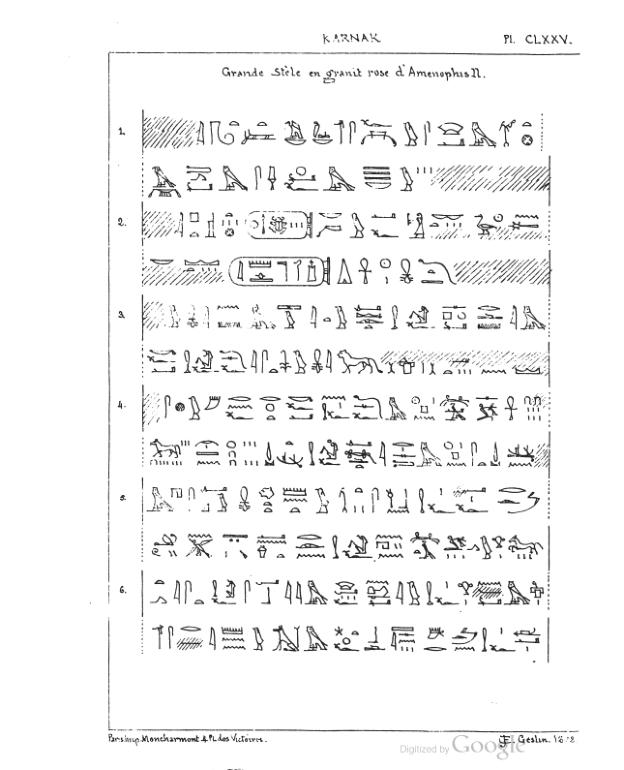circle: (227, 253, 334, 287), (243, 207, 317, 242)
